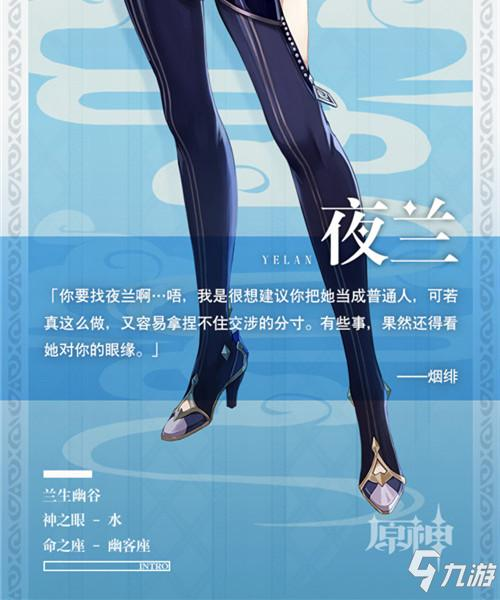夜兰: (120, 1, 405, 516)
